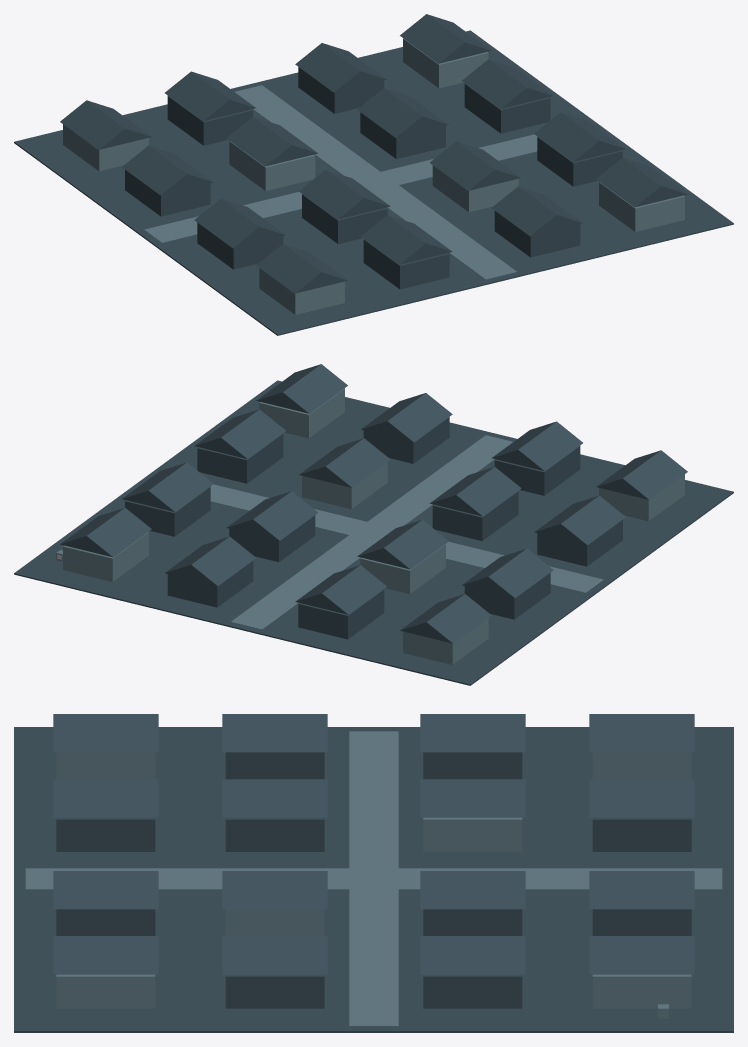
The model's file is residential_neighborhood.lod2.glb.
3 renders of one model, top to bottom at view 1: azimuth 30°, elevation 25°; view 2: azimuth 150°, elevation 25°; view 3: azimuth 270°, elevation 25°, orthographic. The views are drawn at different scales.
Parts seen in each view (by area): view 1: residential_neighborhood_graphite.002, residential_neighborhood_graphite_light.002; view 2: residential_neighborhood_graphite.002, residential_neighborhood_graphite_light.002; view 3: residential_neighborhood_graphite.002, residential_neighborhood_graphite_light.002.
Boxes of the visible parts, bbox=[...] form: residential_neighborhood_graphite.002: bbox=[14, 14, 733, 335]; residential_neighborhood_graphite_light.002: bbox=[63, 38, 684, 314]; residential_neighborhood_graphite.002: bbox=[14, 364, 733, 685]; residential_neighborhood_graphite_light.002: bbox=[56, 388, 684, 664]; residential_neighborhood_graphite.002: bbox=[14, 714, 733, 1032]; residential_neighborhood_graphite_light.002: bbox=[25, 731, 722, 1026].
Bounding box in the file's own units: 175 × 15.5 × 175.
